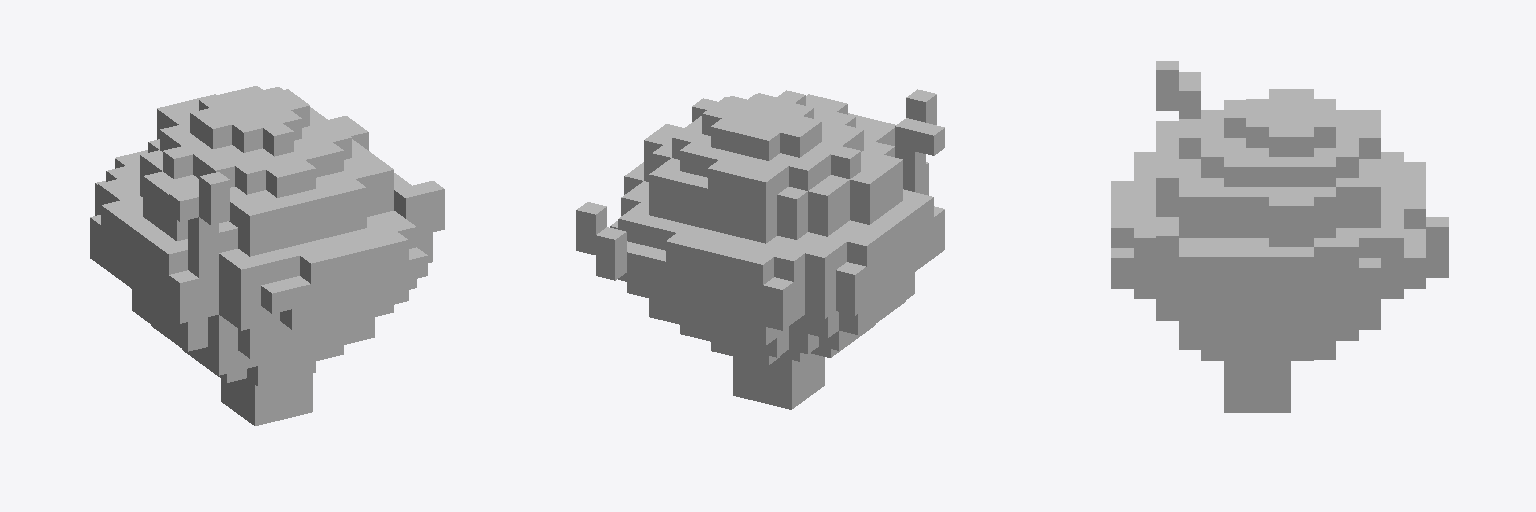
File: Bush2.obj
The picture shows the model from 3 angles: view 1: azimuth 30°, elevation 25°; view 2: azimuth 150°, elevation 25°; view 3: azimuth 270°, elevation 25°; orthographic projection.
Visible parts, largest first — view 1: object 1; view 2: object 1; view 3: object 1.
Part boxes in pixels (x1,y1,x2,y2): object 1: (90,86,444,425); object 1: (576,89,944,409); object 1: (1111,61,1448,412).
Size of the model in its own units: 1.3 by 1.4 by 1.5.